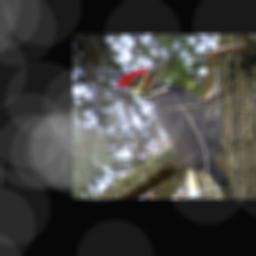Woodpecker: (114, 60, 234, 199)
